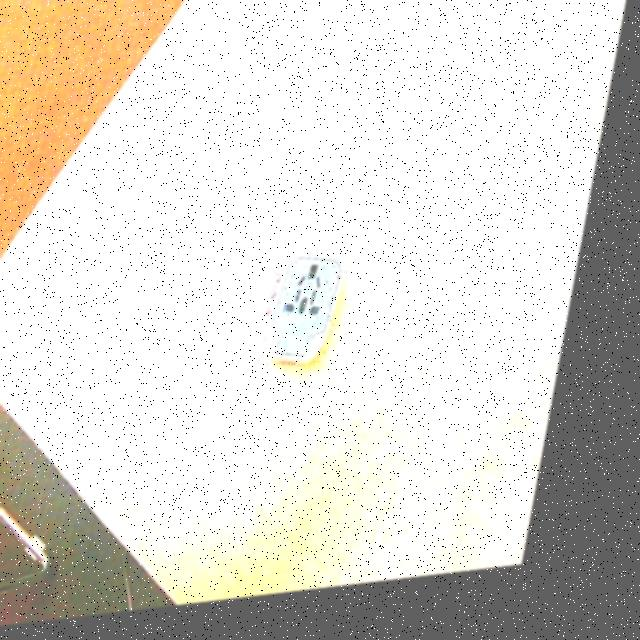adapter: (272, 256, 362, 378)
